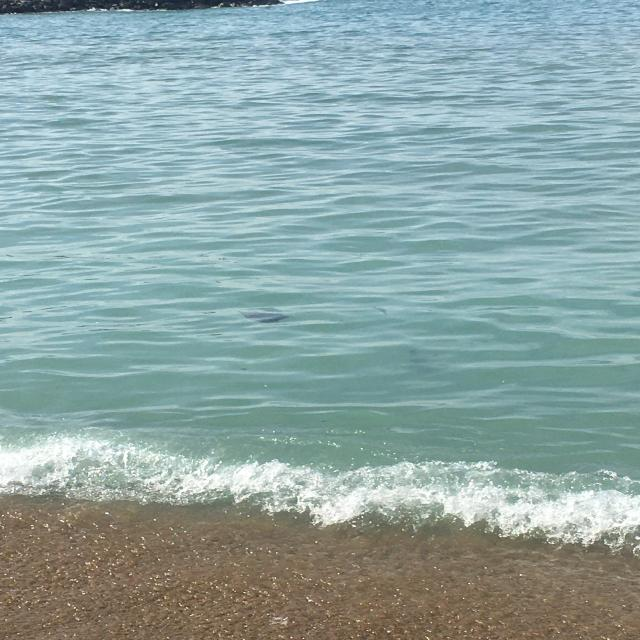Plastic bag: (236, 305, 295, 327)
